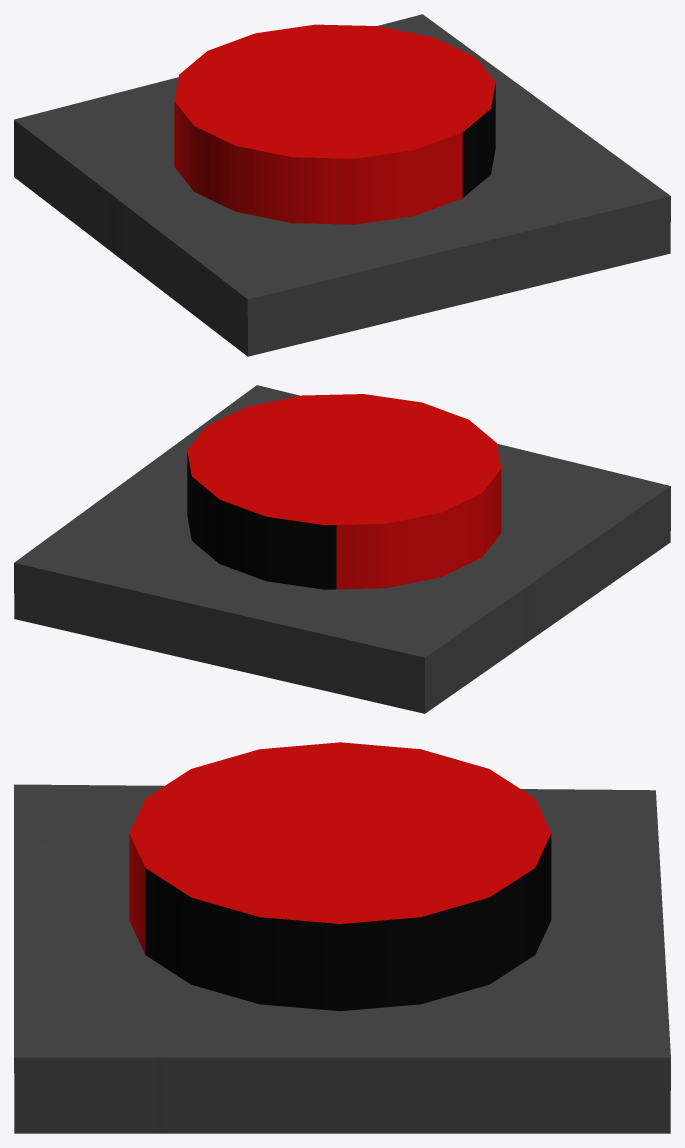
File: button.fbx
The picture shows the model from 3 angles, top to bottom: view 1: azimuth 30°, elevation 25°; view 2: azimuth 150°, elevation 25°; view 3: azimuth 270°, elevation 25°; orthographic projection. The views are drawn at different scales.
Parts seen in each view (by area): view 1: Cylinder002; view 2: Cylinder002; view 3: Cylinder002.
Boxes of the visible parts, bbox=[...] form: Cylinder002: bbox=[14, 14, 670, 356]; Cylinder002: bbox=[14, 385, 670, 713]; Cylinder002: bbox=[14, 742, 670, 1133].
Size of the model in its own units: 2.46 by 0.6851 by 2.5.
